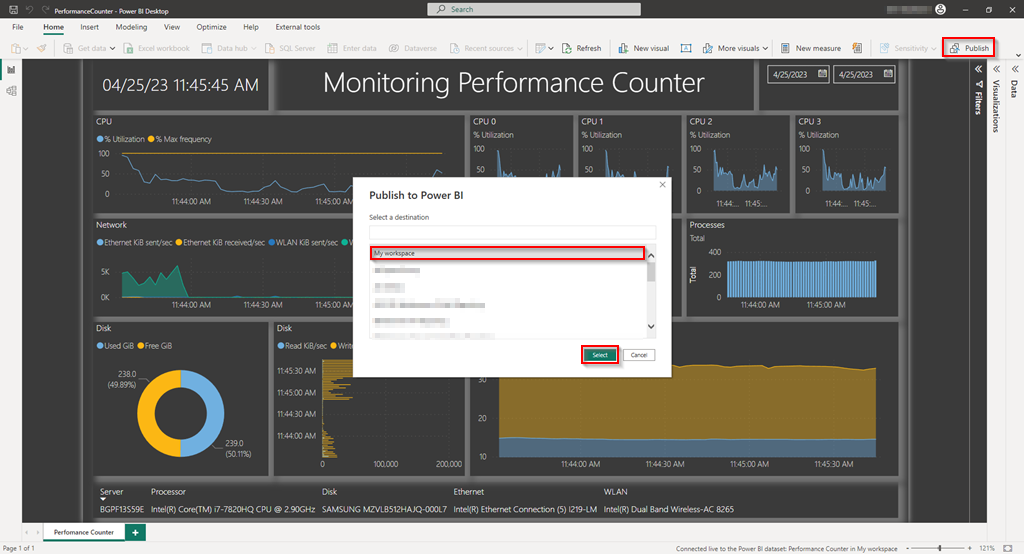

What the dashboard file says about the page in this screenshot:
{"tool":"powerbi","page":{"name":"Perfomance Counter","canvas":[1280,720],"ordinal":0},"visuals":[{"type":"textbox","box":[296,0,744,80],"z":0},{"type":"tableEx","fields":{"Values":["RealtimeData.Server","RealtimeData.Processor","RealtimeData.Disk","RealtimeData.Ethernet","RealtimeData.WLAN"]},"box":[16,656,1248,56],"z":1000},{"type":"slicer","fields":{"Values":["RealtimeData.Timestamp"]},"box":[1048,0,216,80],"z":2000},{"type":"card","fields":{"Values":["RealtimeData.Timestamp"]},"box":[16,0,272,80],"z":3000},{"type":"lineChart","title":"CPU","fields":{"Category":["RealtimeData.Timestamp"],"Y":["RealtimeData.CPU usage percent","RealtimeData.CPU max frequency percent"]},"box":[16,88,576,152],"z":4000},{"type":"areaChart","title":"CPU 0","fields":{"Category":["RealtimeData.Timestamp"],"Y":["RealtimeData.CPU 0 usage percent"]},"box":[600,88,160,152],"z":5000},{"type":"areaChart","title":"CPU 1","fields":{"Category":["RealtimeData.Timestamp"],"Y":["RealtimeData.CPU 1 usage percent"]},"box":[768,88,160,152],"z":6000},{"type":"areaChart","title":"CPU 2","fields":{"Category":["RealtimeData.Timestamp"],"Y":["RealtimeData.CPU 2 usage percent"]},"box":[936,88,160,152],"z":7000},{"type":"areaChart","title":"CPU 3","fields":{"Category":["RealtimeData.Timestamp"],"Y":["RealtimeData.CPU 3 usage percent"]},"box":[1104,88,160,152],"z":8000},{"type":"areaChart","title":"Network","fields":{"Y":["RealtimeData.Ethernet KiB sent/sec","RealtimeData.Ethernet KiB received/sec","RealtimeData.WLAN KiB sent/sec","RealtimeData.WLAN KiB received/sec"],"Category":["RealtimeData.Timestamp"]},"box":[16,248,576,152],"z":9000},{"type":"lineChart","title":"Temperature","fields":{"Category":["RealtimeData.Timestamp"],"Y":["RealtimeData.Temperature"]},"box":[600,248,328,152],"z":10000},{"type":"clusteredColumnChart","title":"Processes","fields":{"Category":["RealtimeData.Timestamp"],"Y":["RealtimeData.Processes"]},"box":[936,248,328,152],"z":11000},{"type":"donutChart","title":"Disk","fields":{"Y":["RealtimeData.Disk used GiB","RealtimeData.Disk free GiB"]},"box":[16,408,272,239],"z":12000},{"type":"clusteredBarChart","title":"Disk","fields":{"Category":["RealtimeData.Timestamp"],"Y":["RealtimeData.Disk read KiB/sec","RealtimeData.Disk write KiB/sec"]},"box":[296,408,296,239],"z":13000},{"type":"stackedAreaChart","title":"Memory","fields":{"Category":["RealtimeData.Timestamp"],"Y":["RealtimeData.Memory used GiB","RealtimeData.Memory available GiB"]},"box":[600,408,664,239],"z":14000}]}

Visuals, with their boxes on the page's 1280x720 design canvas (x1, y1, x2, y2). These are canvas units, not pixel positions in the 1024x554 screenshot, which may show the page scaled, cropped or inside an application window:
textbox: (296,0,1040,80)
tableEx - RealtimeData.Server x RealtimeData.Processor: (16,656,1264,712)
slicer - RealtimeData.Timestamp: (1048,0,1264,80)
card - RealtimeData.Timestamp: (16,0,288,80)
"CPU" lineChart: (16,88,592,240)
"CPU 0" areaChart: (600,88,760,240)
"CPU 1" areaChart: (768,88,928,240)
"CPU 2" areaChart: (936,88,1096,240)
"CPU 3" areaChart: (1104,88,1264,240)
"Network" areaChart: (16,248,592,400)
"Temperature" lineChart: (600,248,928,400)
"Processes" clusteredColumnChart: (936,248,1264,400)
"Disk" donutChart: (16,408,288,647)
"Disk" clusteredBarChart: (296,408,592,647)
"Memory" stackedAreaChart: (600,408,1264,647)
